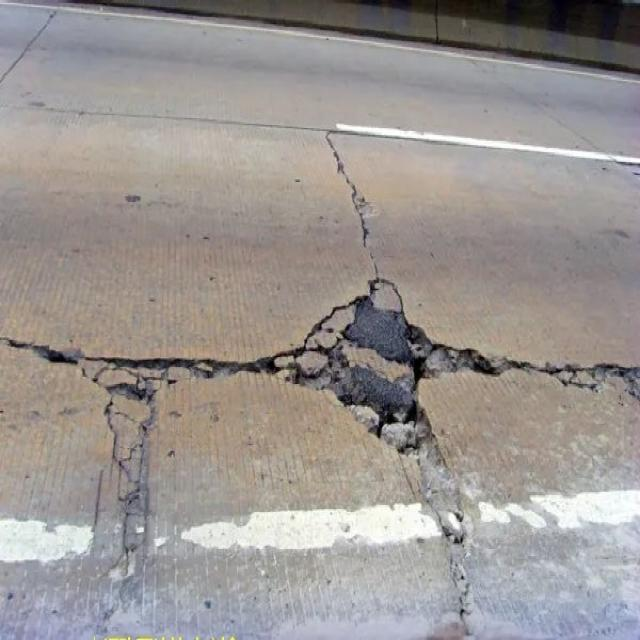Pothole: (271, 278, 548, 447), (6, 334, 260, 414), (410, 455, 472, 634), (321, 128, 388, 269), (556, 358, 639, 406)
